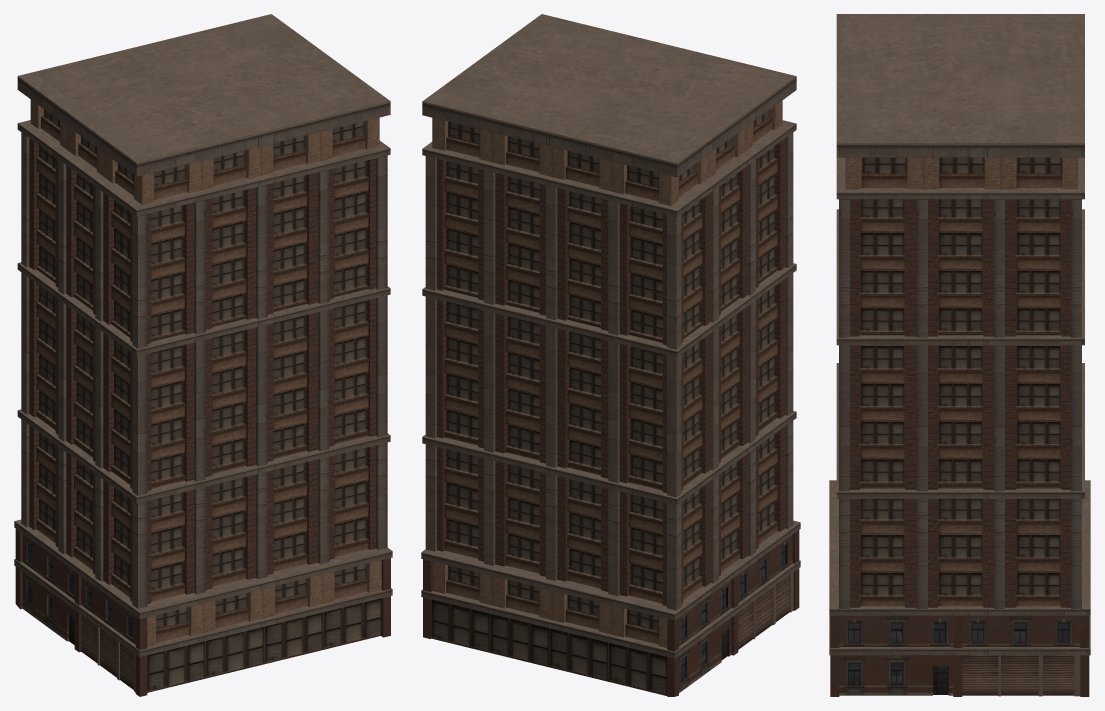
Rendered from Cyberpunk Building V8.fbx.
3 views of the same model, side by side, from view 1: azimuth 30°, elevation 25°; view 2: azimuth 150°, elevation 25°; view 3: azimuth 270°, elevation 25° (orthographic). The views are drawn at different scales.
Visible parts, largest first — view 1: Cyberpunk Building V8; view 2: Cyberpunk Building V8; view 3: Cyberpunk Building V8.
Part boxes in pixels (box(x1,y1,x2,y2)): Cyberpunk Building V8: box(14, 14, 392, 696); Cyberpunk Building V8: box(421, 14, 800, 696); Cyberpunk Building V8: box(829, 14, 1090, 696).
Size of the model in its own units: 2673 by 5338 by 2278.
